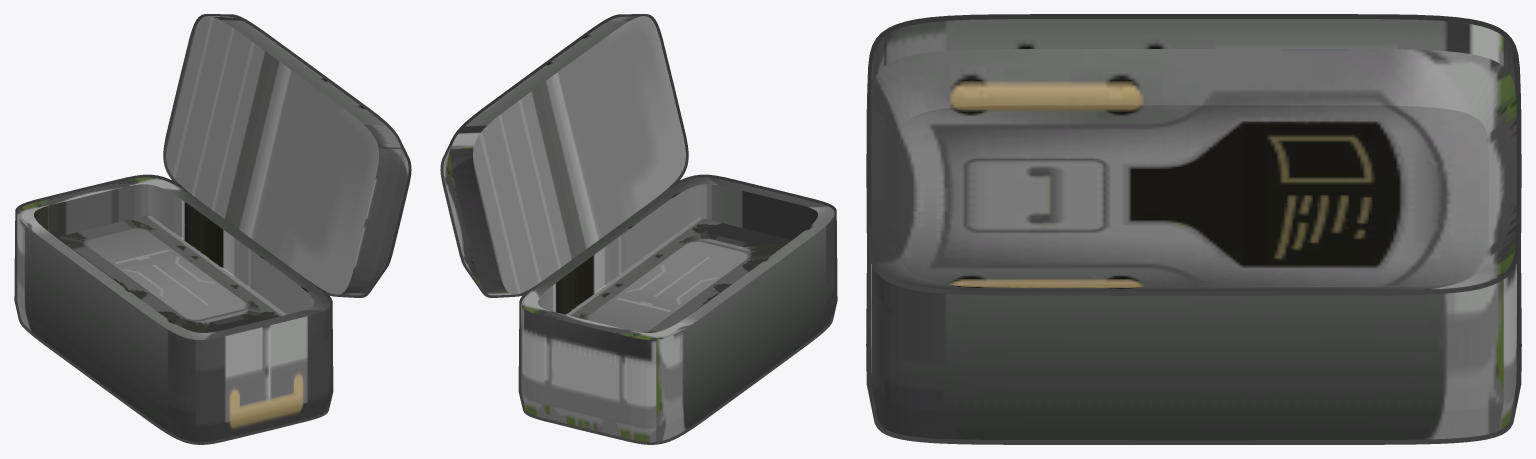
Rendered from Building_CryptosleepCasket__Open.glb.
3 views of the same model, side by side, from view 1: azimuth 30°, elevation 25°; view 2: azimuth 150°, elevation 25°; view 3: azimuth 270°, elevation 25° (orthographic). The views are drawn at different scales.
Parts seen in each view (by area): view 1: CryptosleepCasket, Outline; view 2: CryptosleepCasket, Outline; view 3: CryptosleepCasket, Outline.
Boxes of the visible parts, box(x1,y1,x2,y2) form: CryptosleepCasket: box(17, 16, 408, 442); Outline: box(14, 14, 411, 444); CryptosleepCasket: box(443, 16, 834, 442); Outline: box(440, 14, 837, 444); CryptosleepCasket: box(871, 19, 1516, 440); Outline: box(866, 14, 1521, 444).
Size of the model in its own units: 1.45 by 1.54 by 1.97.
2 materials, 1 textured.
